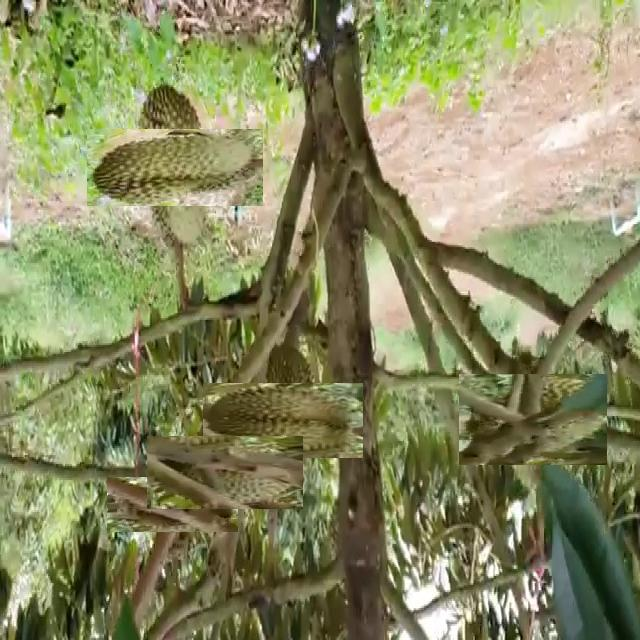durian: (111, 104, 238, 231), (472, 360, 592, 479), (224, 362, 342, 479), (167, 415, 282, 530), (126, 458, 220, 551)
